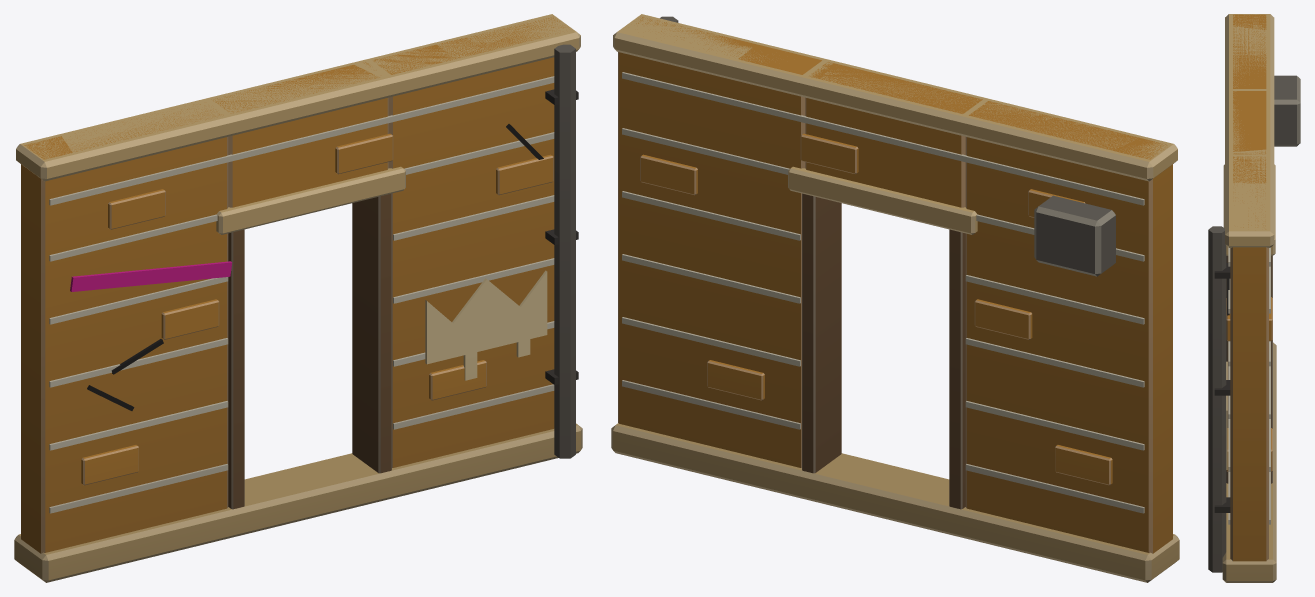
File: b_wall_door_chunks.glb
The picture shows the model from 3 angles, left to right: view 1: azimuth 30°, elevation 25°; view 2: azimuth 150°, elevation 25°; view 3: azimuth 270°, elevation 25°; orthographic projection. The views are drawn at different scales.
Parts seen in each view (by area): view 1: chunk_3, chunk_7, chunk_0, chunk_2, chunk_6, chunk_5, chunk_4, chunk_1; view 2: chunk_3, chunk_7, chunk_0, chunk_5, chunk_6, chunk_2, chunk_4, chunk_1; view 3: chunk_7, chunk_6, chunk_3, chunk_5, chunk_1, chunk_4, chunk_0, chunk_2.
Part boxes in pixels (x1=…): chunk_3: x1=60, y1=63, x2=385, y2=334; chunk_7: x1=434, y1=14, x2=580, y2=290; chunk_0: x1=14, y1=334, x2=172, y2=582; chunk_2: x1=118, y1=319, x2=323, y2=551; chunk_6: x1=444, y1=276, x2=582, y2=485; chunk_5: x1=351, y1=43, x2=460, y2=300; chunk_4: x1=285, y1=290, x2=452, y2=516; chunk_1: x1=16, y1=134, x2=117, y2=344; chunk_3: x1=817, y1=61, x2=1143, y2=341; chunk_7: x1=613, y1=14, x2=759, y2=298; chunk_0: x1=1007, y1=330, x2=1179, y2=582; chunk_5: x1=733, y1=43, x2=841, y2=310; chunk_6: x1=611, y1=281, x2=748, y2=485; chunk_2: x1=880, y1=327, x2=1063, y2=548; chunk_4: x1=744, y1=282, x2=899, y2=518; chunk_1: x1=1058, y1=136, x2=1177, y2=352; chunk_7: x1=1208, y1=183, x2=1274, y2=441; chunk_6: x1=1208, y1=395, x2=1276, y2=582; chunk_3: x1=1223, y1=26, x2=1300, y2=225; chunk_5: x1=1223, y1=149, x2=1275, y2=348; chunk_1: x1=1225, y1=14, x2=1300, y2=89; chunk_4: x1=1226, y1=340, x2=1276, y2=508; chunk_0: x1=1273, y1=342, x2=1276, y2=399; chunk_2: x1=1273, y1=396, x2=1276, y2=453.
Bounding box in the file's own units: 4.04 × 3 × 0.715.
